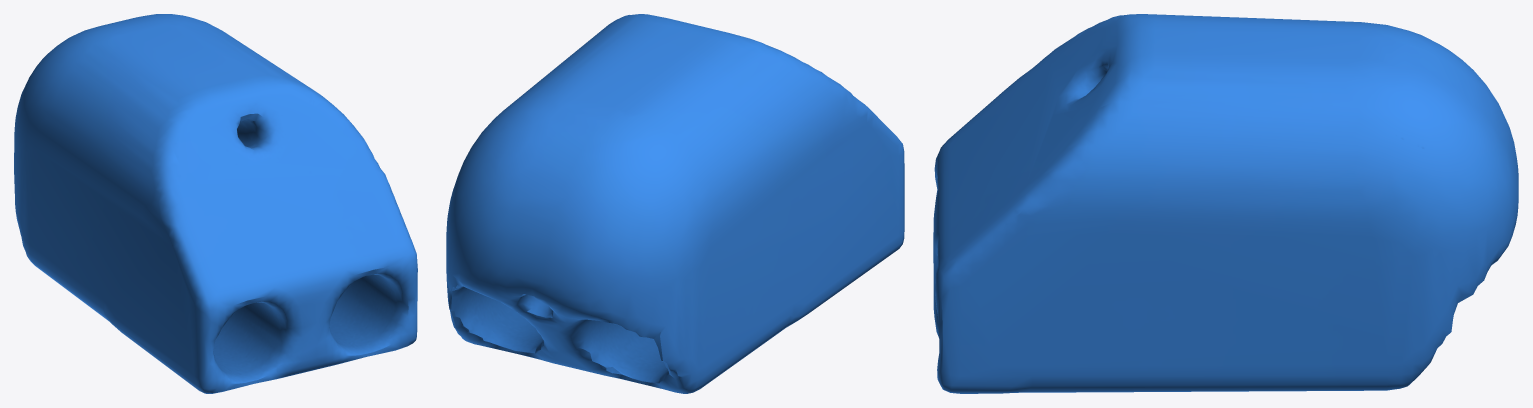
File: left_finger1_upper.obj
The picture shows the model from 3 angles, left to right: view 1: azimuth 30°, elevation 25°; view 2: azimuth 150°, elevation 25°; view 3: azimuth 270°, elevation 25°; orthographic projection. The views are drawn at different scales.
Visible parts, largest first — view 1: left_finger1_upper; view 2: left_finger1_upper; view 3: left_finger1_upper.
Boxes of the visible parts, box(x1,y1,x2,y2) form: left_finger1_upper: box(14, 14, 417, 393); left_finger1_upper: box(446, 14, 904, 393); left_finger1_upper: box(933, 14, 1518, 393).
Size of the model in its own units: 0.00989 by 0.0101 by 0.0181.
1 material, 1 textured.
